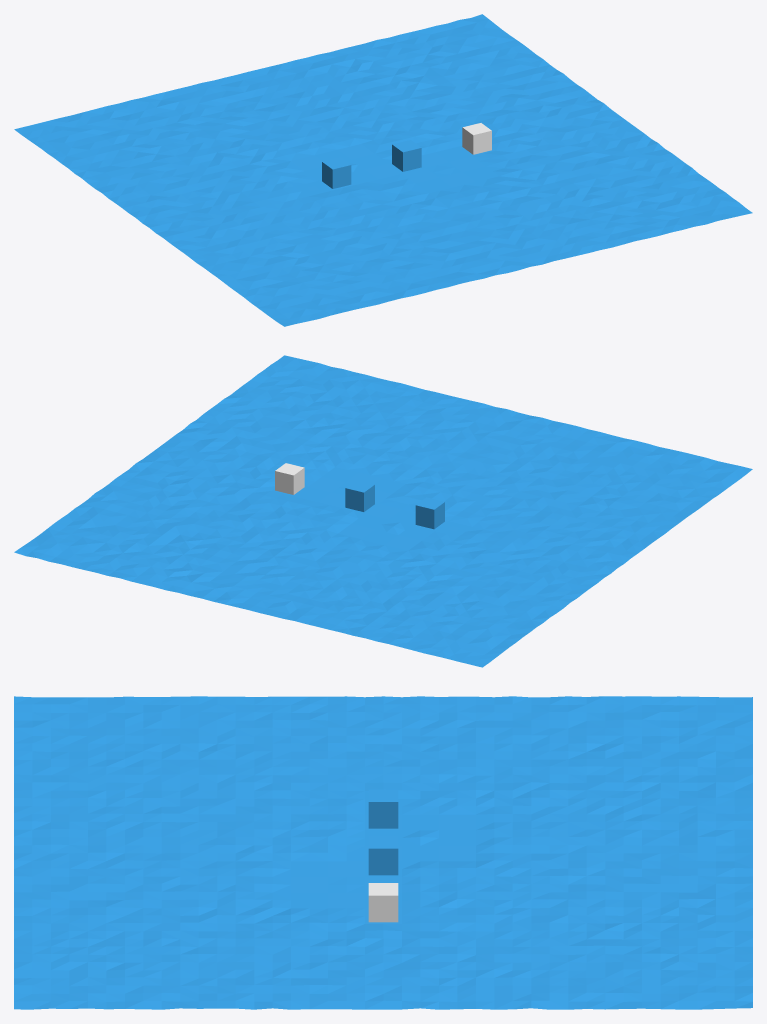
3 views of the same model, one above another, from view 1: azimuth 30°, elevation 25°; view 2: azimuth 150°, elevation 25°; view 3: azimuth 270°, elevation 25° (orthographic). The views are drawn at different scales.
Parts seen in each view (by area): view 1: Plane, Enemy1, Enemy0, Block; view 2: Plane, Enemy1, Enemy0, Block; view 3: Plane, Enemy1, Block, Enemy0.
Part boxes in pixels (x1=…): Plane: x1=14, y1=14, x2=752, y2=326; Enemy1: x1=322, y1=157, x2=351, y2=188; Enemy0: x1=392, y1=140, x2=421, y2=171; Block: x1=462, y1=123, x2=491, y2=154; Plane: x1=14, y1=355, x2=752, y2=667; Enemy1: x1=415, y1=497, x2=444, y2=529; Enemy0: x1=345, y1=480, x2=374, y2=511; Block: x1=275, y1=463, x2=304, y2=494; Plane: x1=14, y1=696, x2=752, y2=1009; Enemy1: x1=368, y1=789, x2=398, y2=828; Block: x1=368, y1=883, x2=398, y2=922; Enemy0: x1=368, y1=836, x2=398, y2=875.
Bounding box in the file's own units: 20 × 20 × 0.8.
